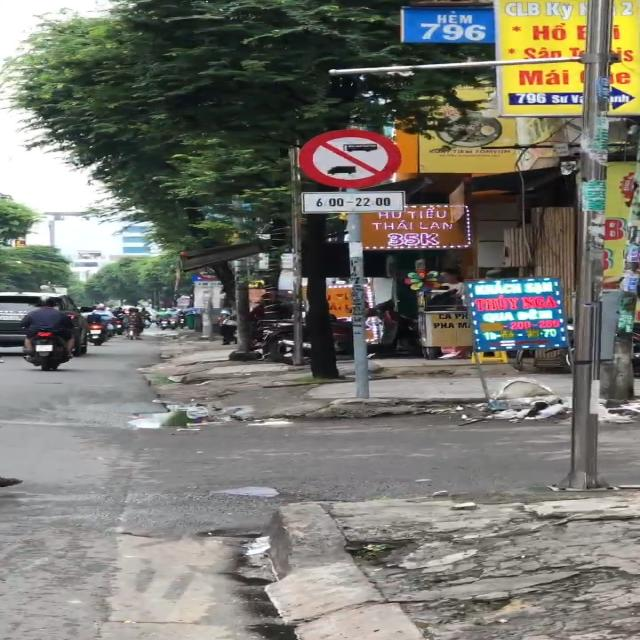Bien bao cam xe oto khach va xe oto tai: (292, 125, 405, 192)
